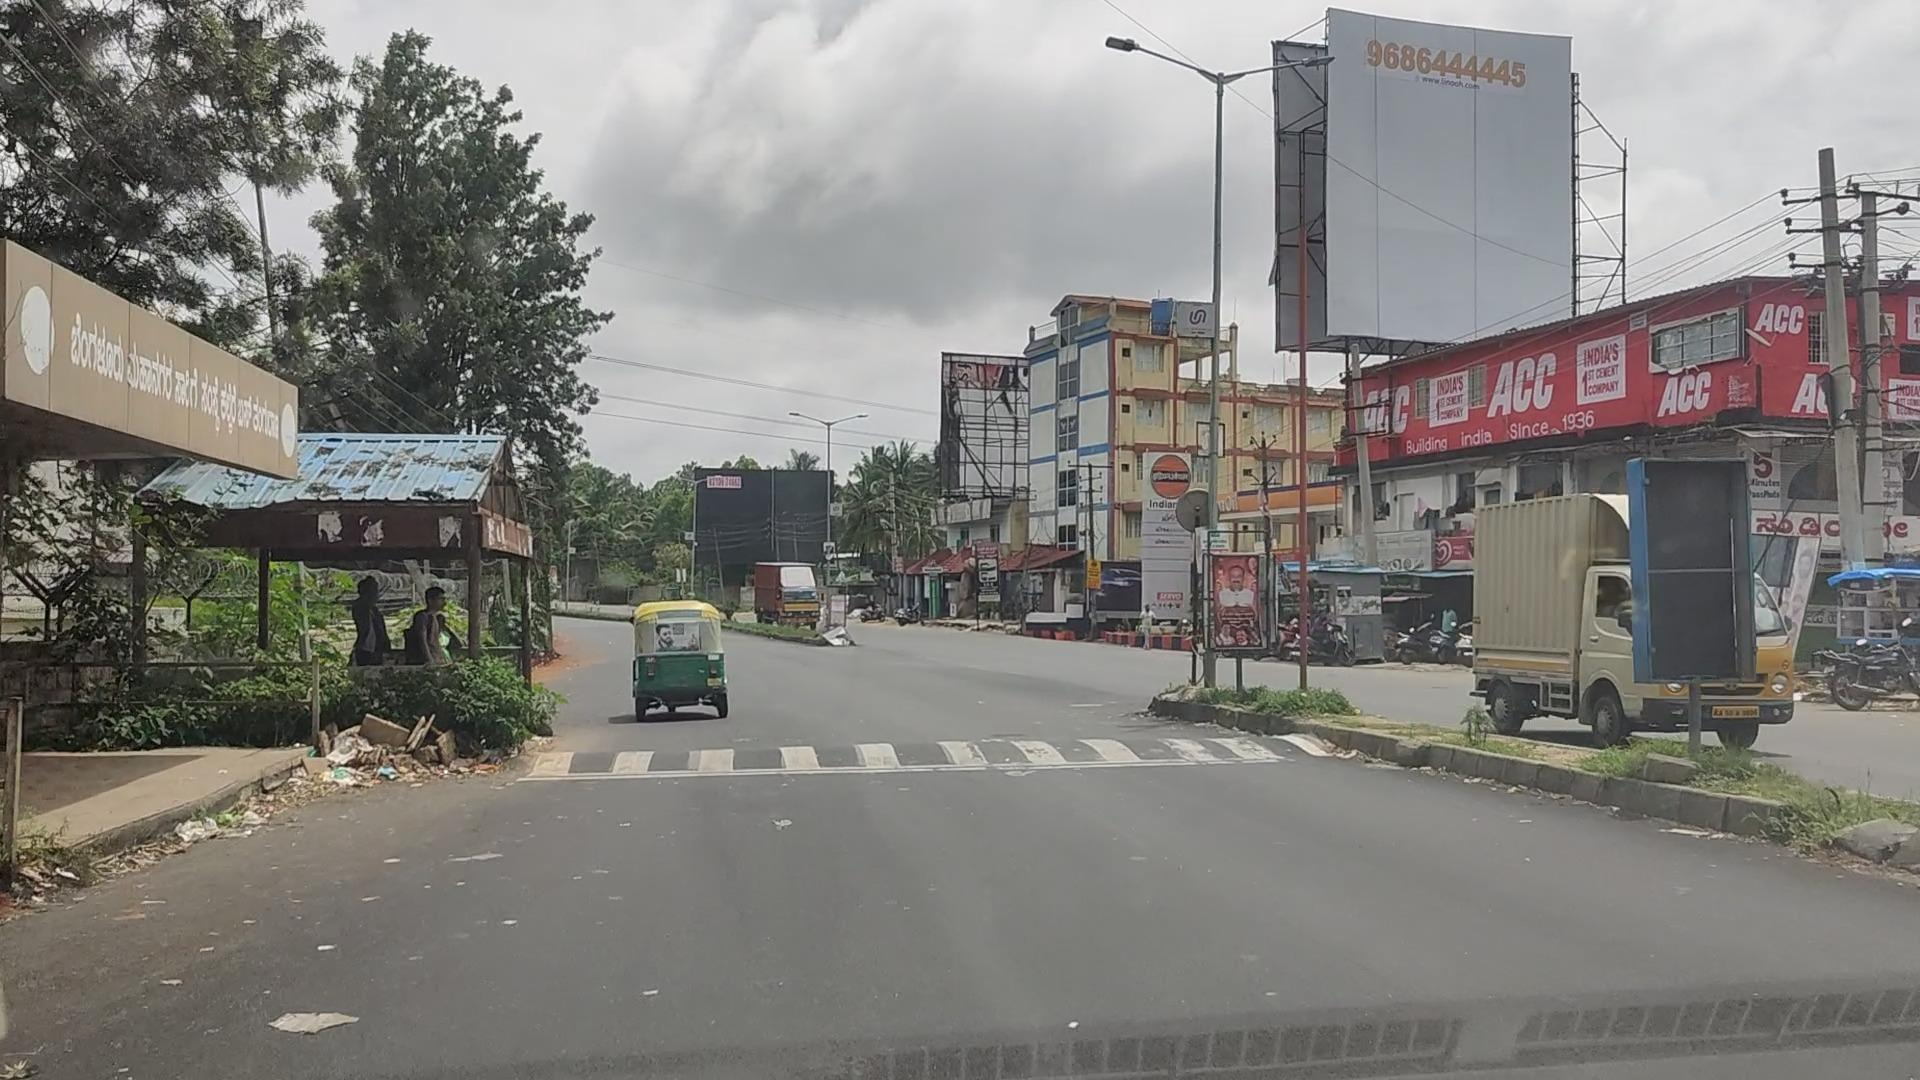LMV: (636, 599, 728, 713)
SpeedBump: (531, 728, 1321, 786)
